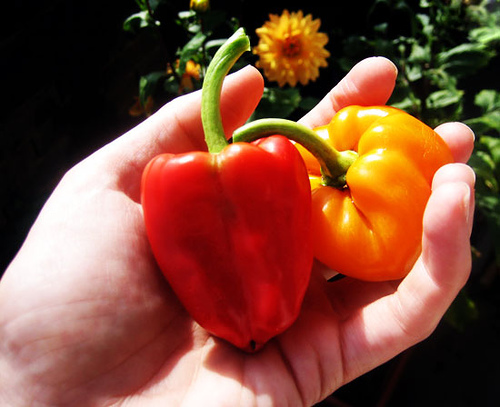capsicum: (140, 27, 314, 354), (294, 103, 455, 282)
